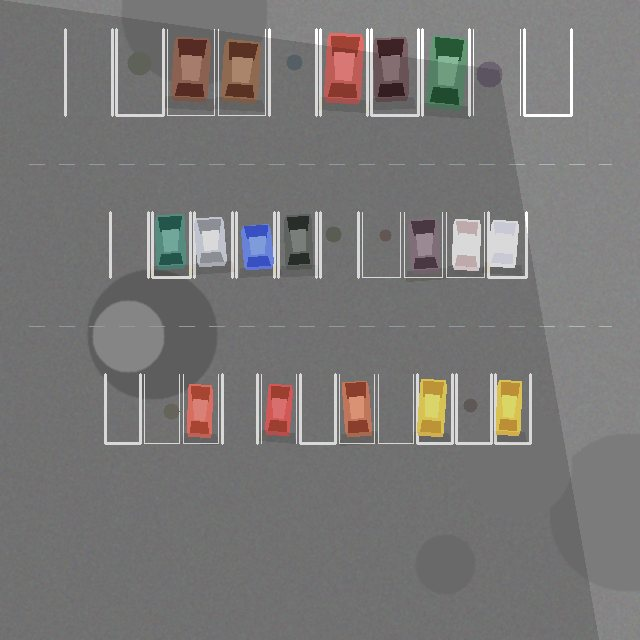space-empty: (65, 29, 112, 115), (116, 29, 163, 115), (269, 29, 316, 115), (473, 29, 520, 115), (524, 29, 571, 115), (110, 212, 148, 277), (320, 212, 358, 277), (362, 212, 400, 277), (105, 374, 140, 443), (144, 374, 179, 443), (222, 374, 257, 443), (300, 374, 335, 443), (378, 374, 413, 443), (456, 374, 491, 443)
space-occupied: (167, 29, 214, 115), (218, 29, 265, 115), (320, 29, 367, 115), (371, 29, 418, 115), (422, 29, 469, 115), (152, 212, 190, 277), (194, 212, 232, 277), (236, 212, 274, 277), (278, 212, 316, 277), (404, 212, 442, 277), (446, 212, 484, 277), (488, 212, 526, 277), (183, 374, 218, 443), (261, 374, 296, 443), (339, 374, 374, 443), (417, 374, 452, 443), (495, 374, 530, 443)
